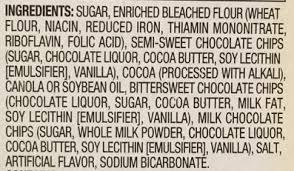ingredients: (1, 1, 292, 170)
